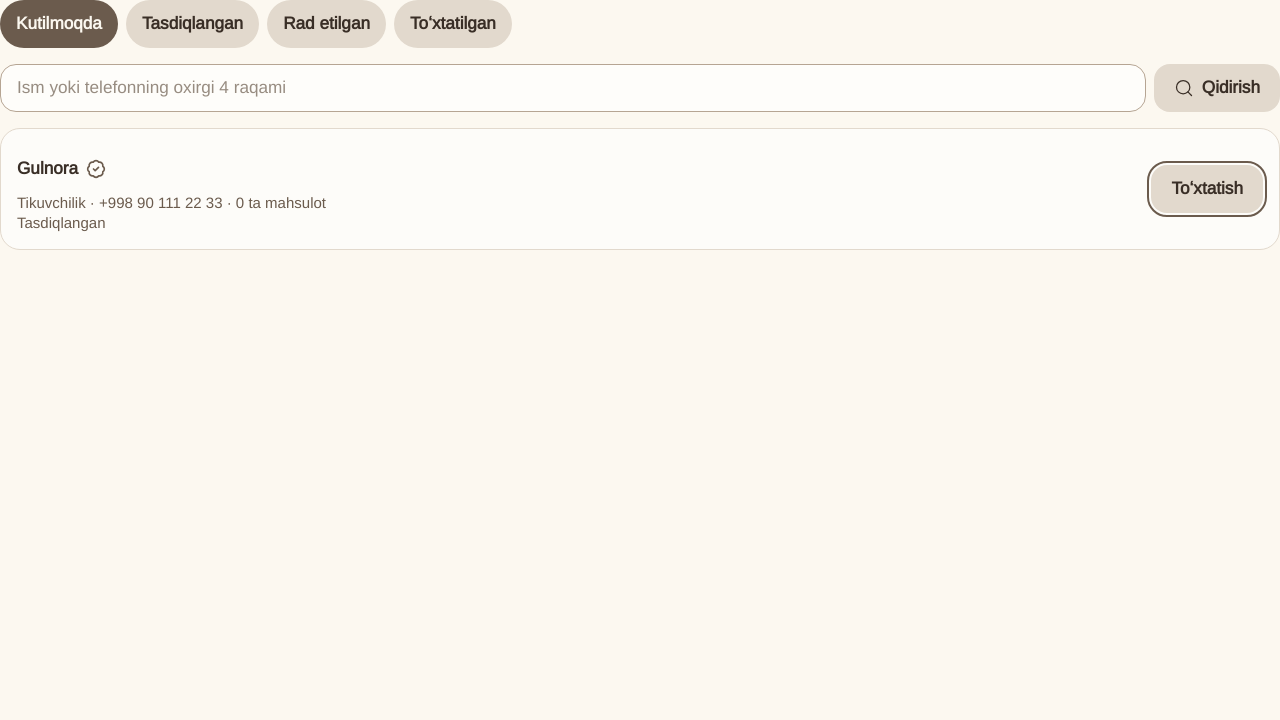
Test: worker list › suspends an approved worker only with a reason, through a named dialog
Click the button with aria-label "Toʻxtatish: Gulnora".
click(1207, 189)  # box [1151,165,1263,213]
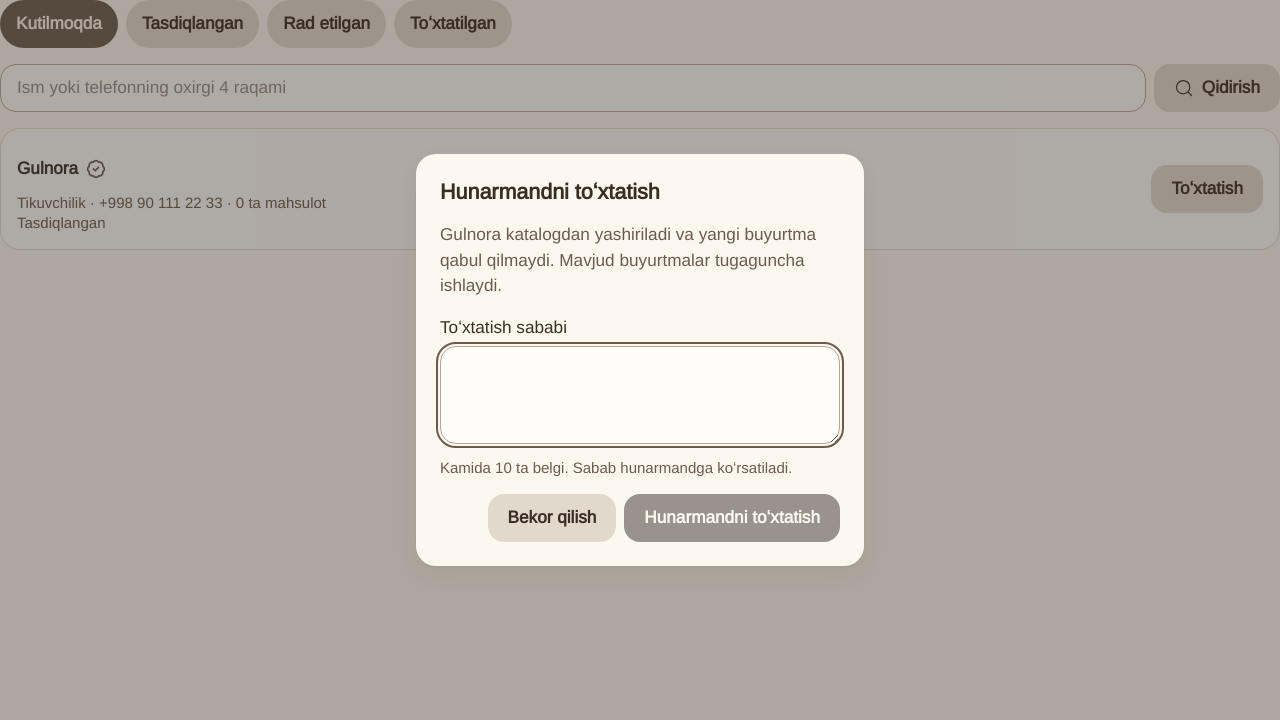
expect the dialog "Hunarmandni toʻxtatish" shows "Gulnora": met, box [440,225,816,295]
expect the button "Hunarmandni toʻxtatish" is disabled: met, box [624,494,840,542]
Type "Shikoyatlar koʻp" into the text box labelled "Toʻxtatish sababi".
click(640, 395); type("Shikoyatlar koʻp")  # box [440,346,840,444]
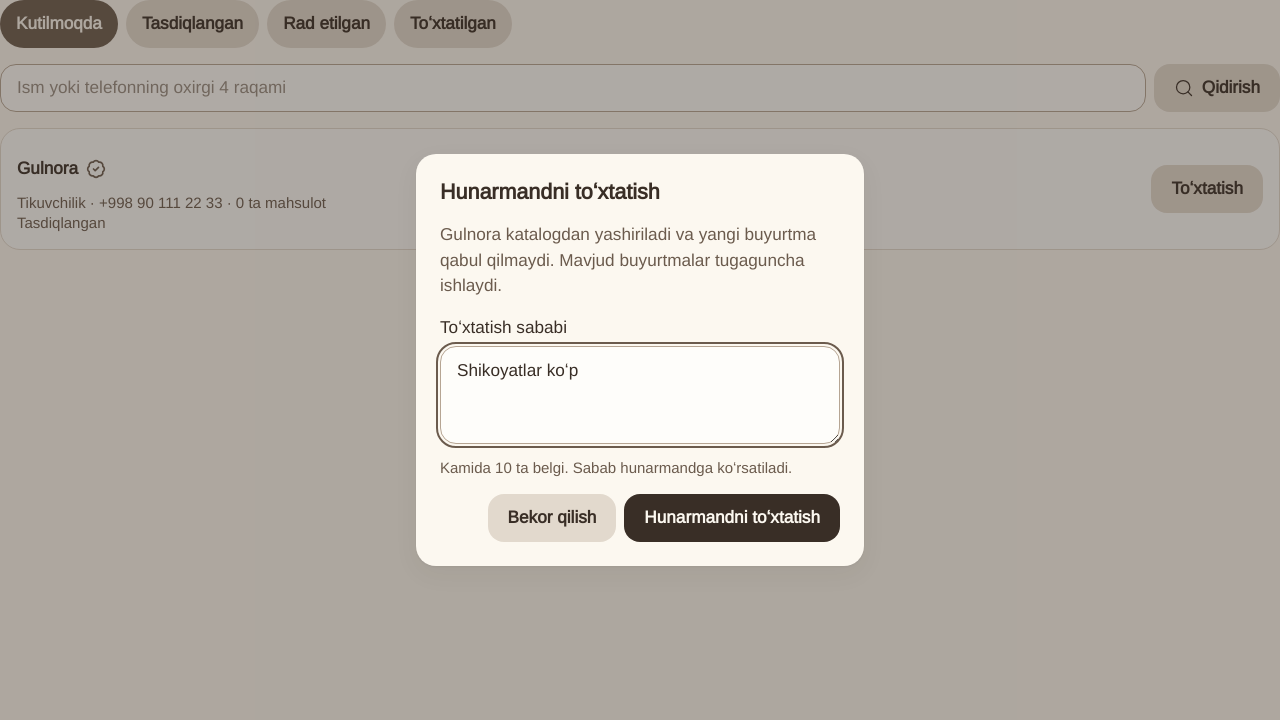
expect the button "Hunarmandni toʻxtatish" is enabled: met
Click the button "Hunarmandni toʻxtatish".
click(732, 518)  # box [624,494,840,542]
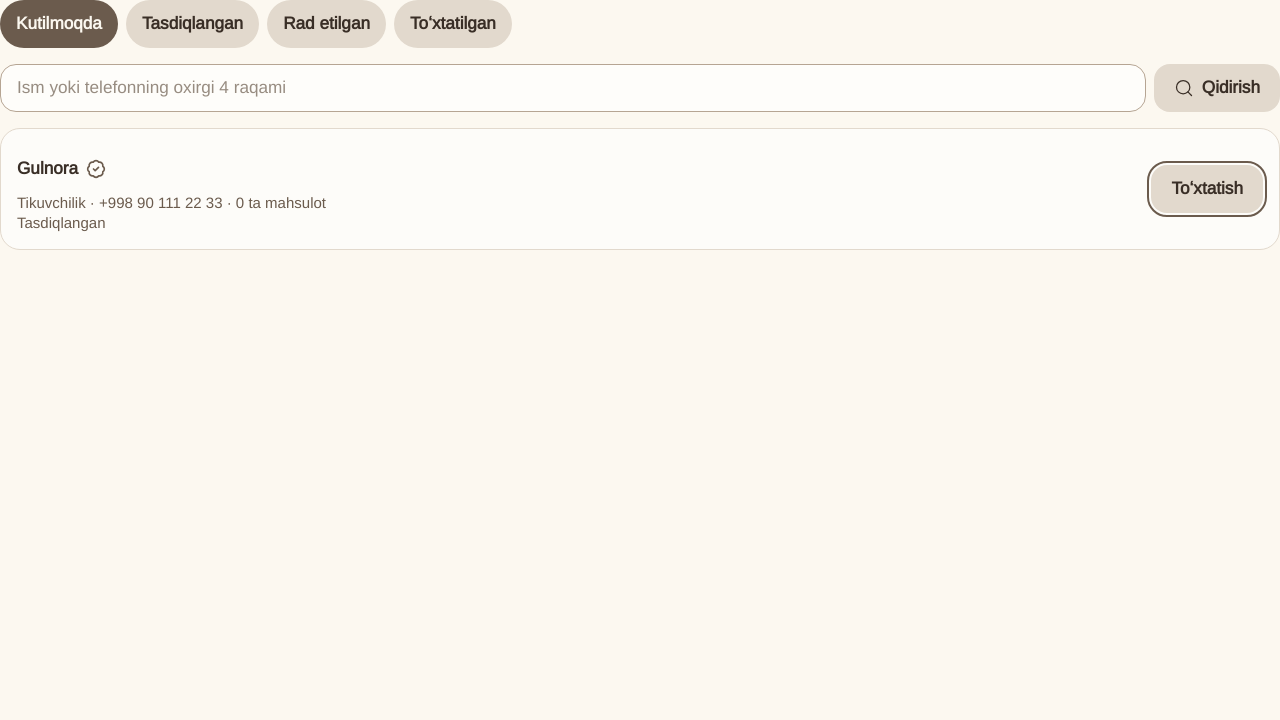
expect the dialog is gone: met
